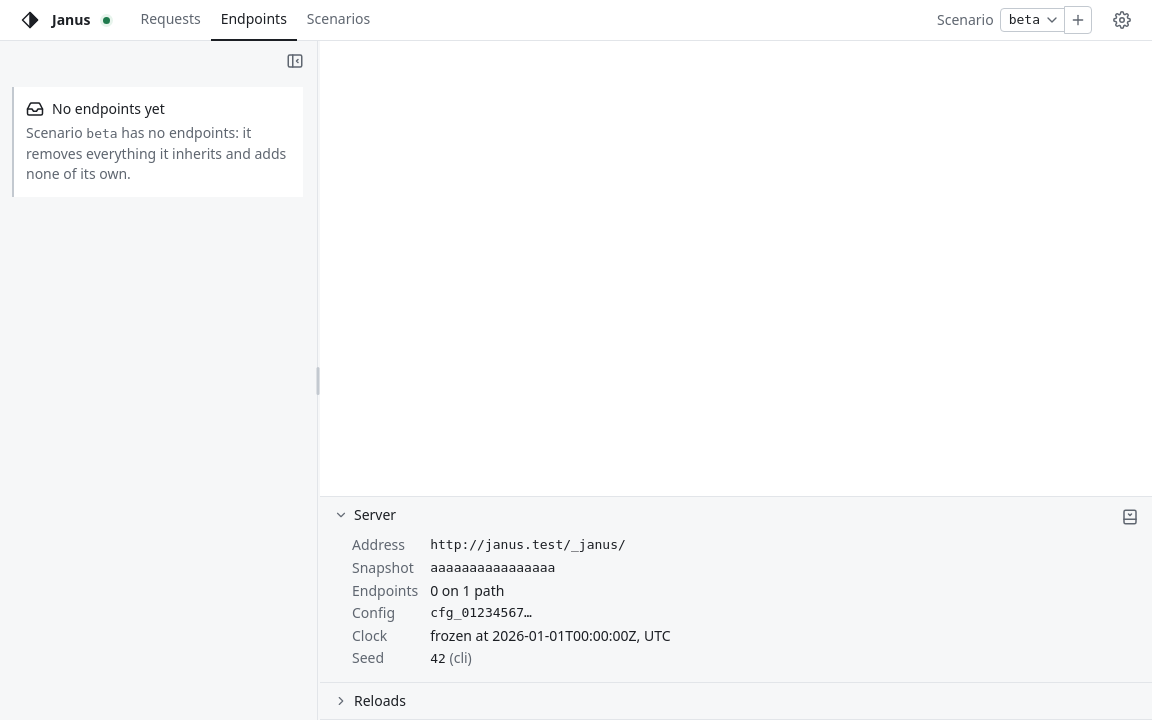
Test: the scenario list › lists the configured default first and keeps it on top whatever the filter
Click the button named "Scenario ": [1032, 20] box [1000,8,1065,32]
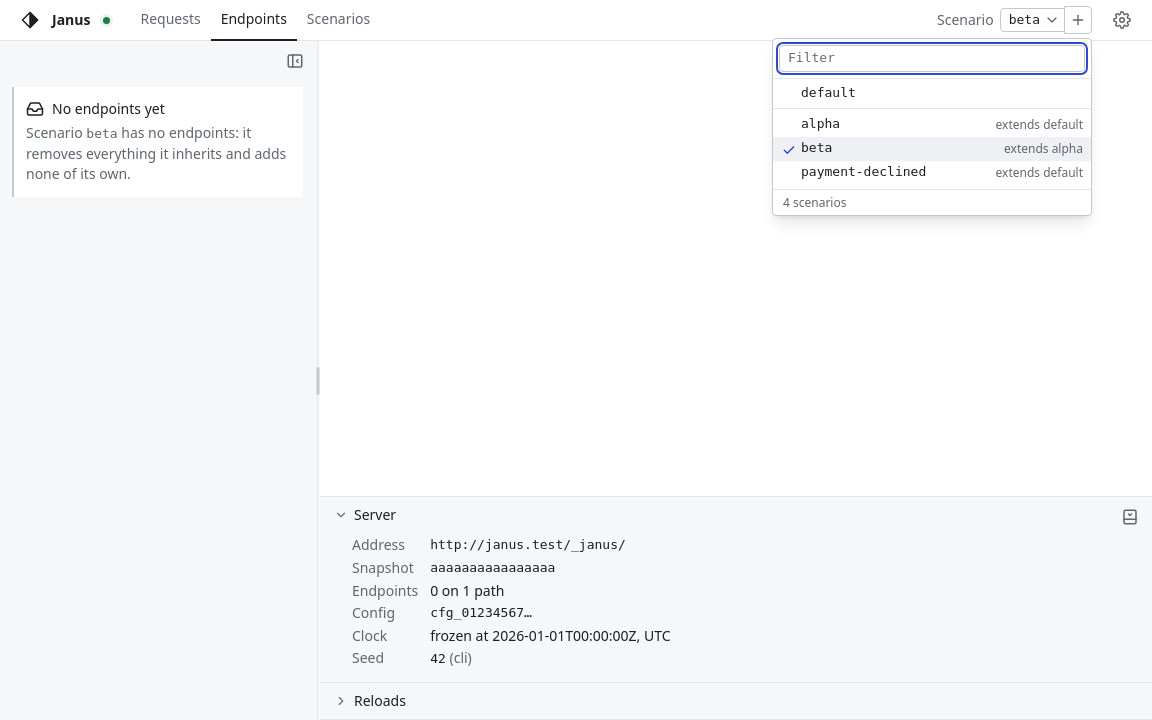
Result: the option "beta extends alpha" is shown at [773,137,1091,161]
Result: the text "4 scenarios" is shown at [773,189,1091,215]
In the dropdown named "Filter scenarios": [932, 58] box [779,45,1085,72], type "PAY"
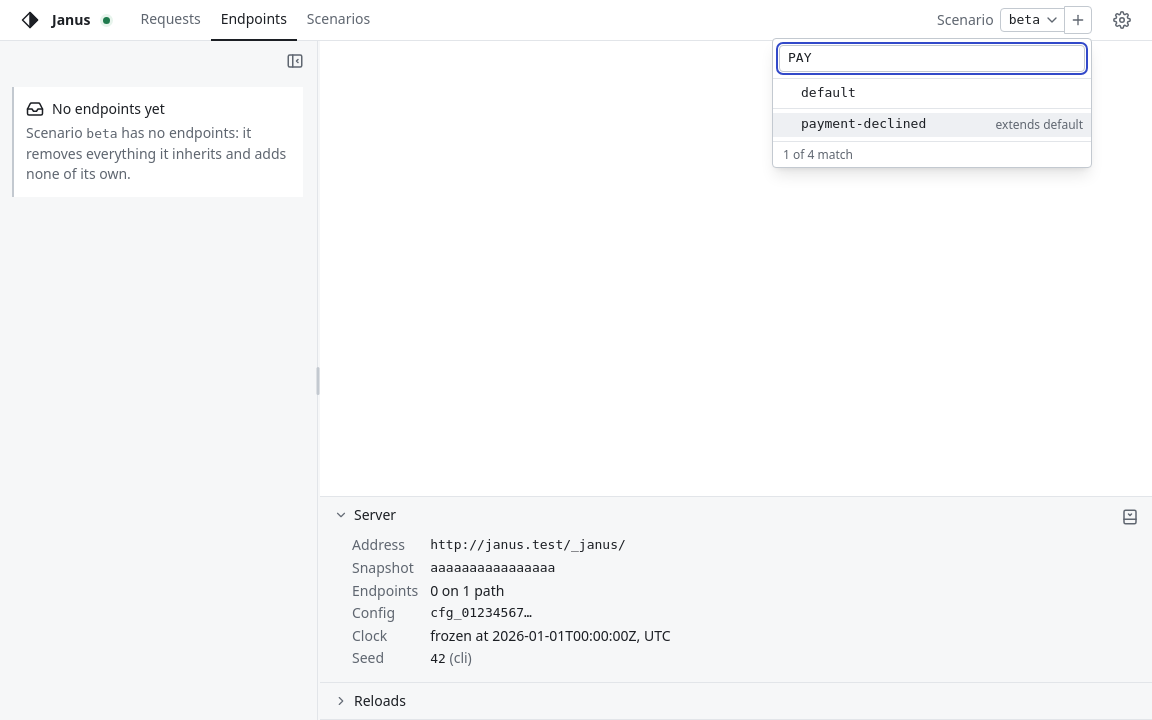
Result: the text "1 of 4 match" is shown at [773,141,1091,167]
Replace the text in the dropdown named "Filter scenarios" with "zzz": [932, 58] box [779,45,1085,72]
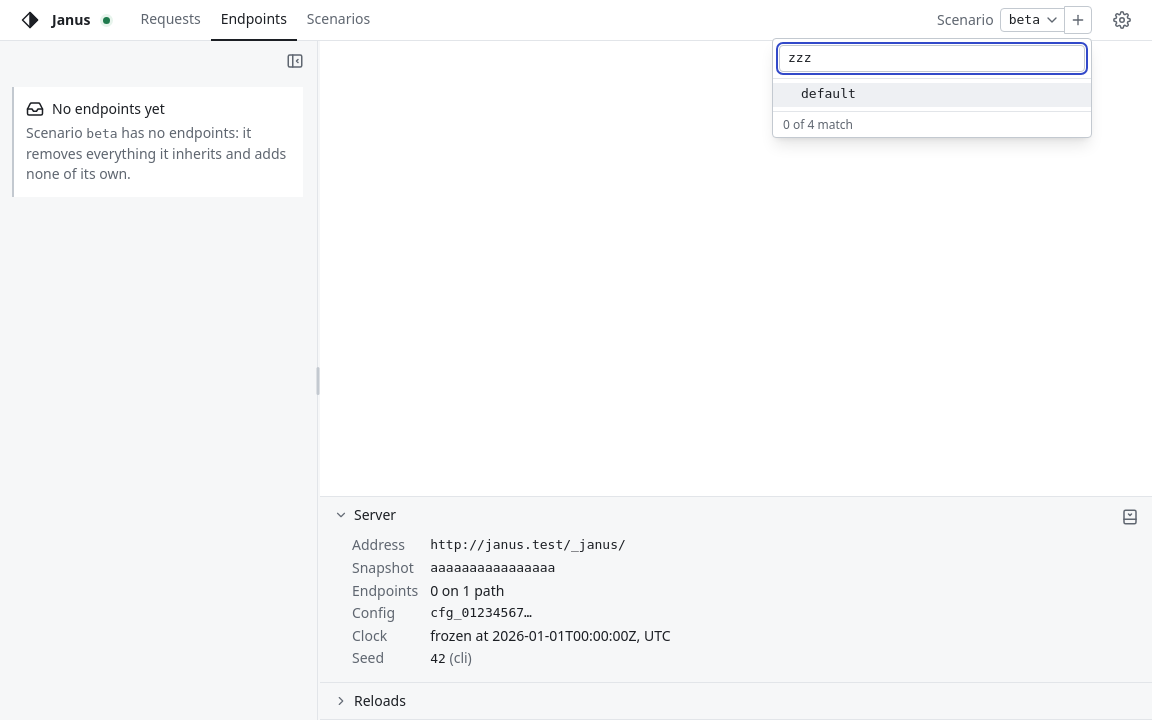
Result: the text "0 of 4 match" is shown at [773,111,1091,137]
